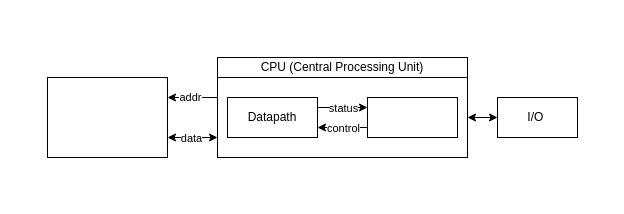
Some shapes in this 624 by 214 pixel diagram are drawn without their labels. The centre of each missing label's shape, as x and y in pixels:
Control FSM: the point at 412,117
Main Memory: the point at 107,117
